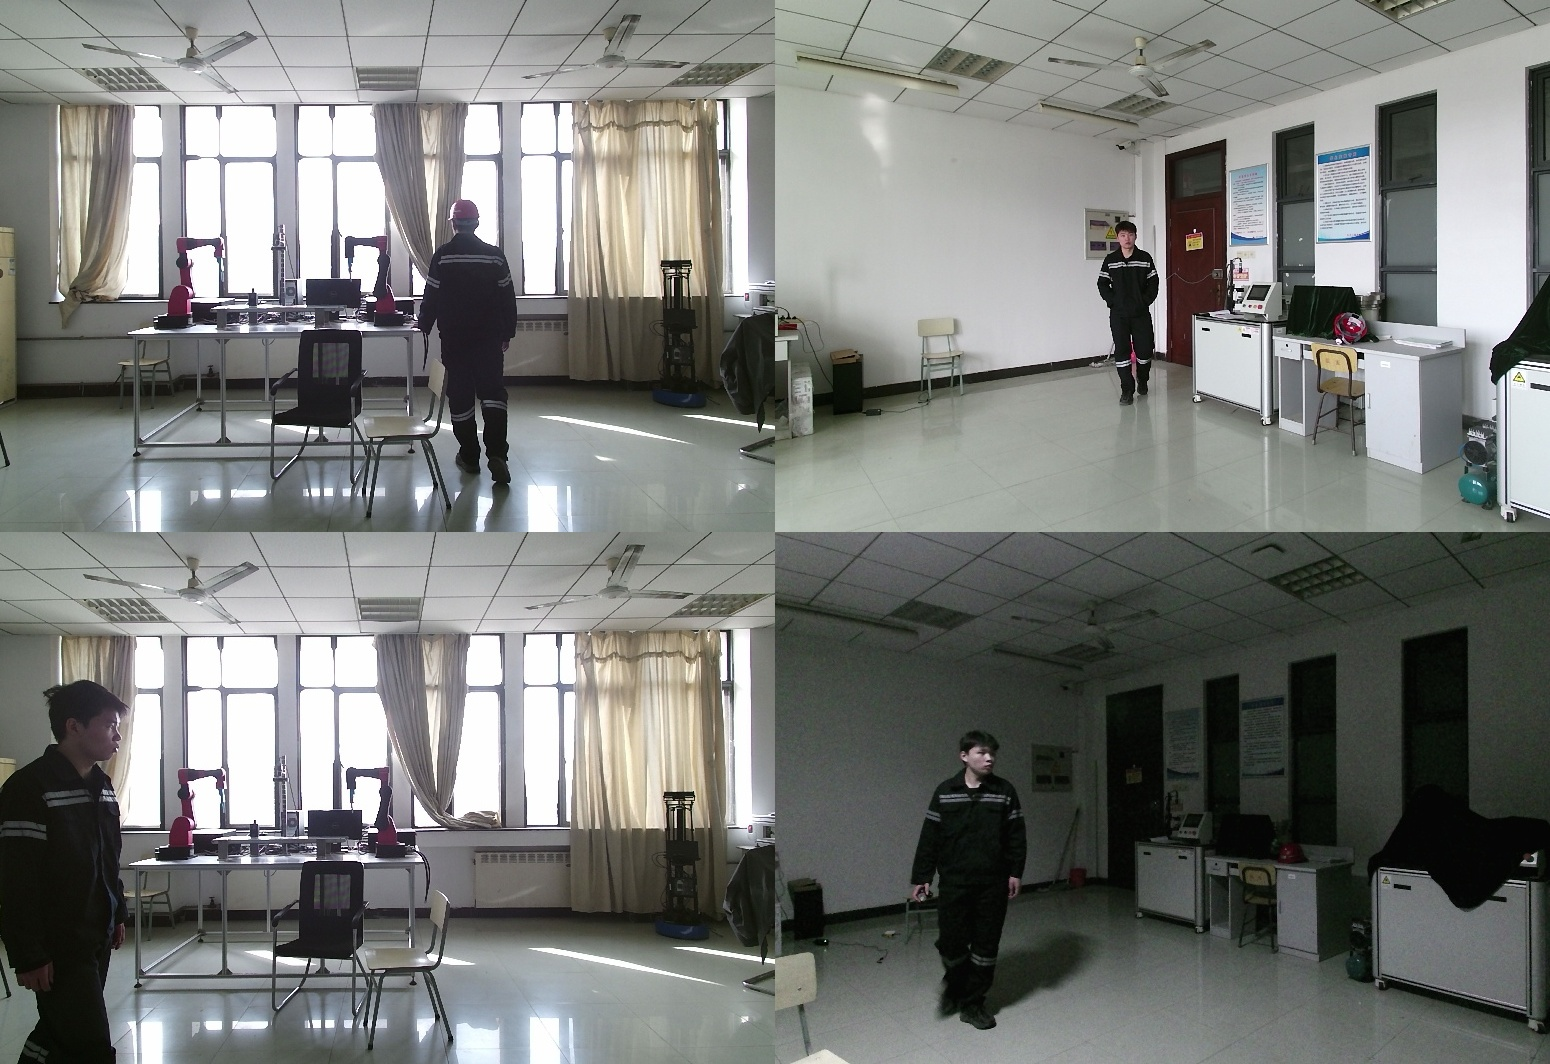person: (1, 684, 133, 1064), (911, 731, 1036, 1028), (422, 200, 527, 514), (1096, 224, 1162, 410)
